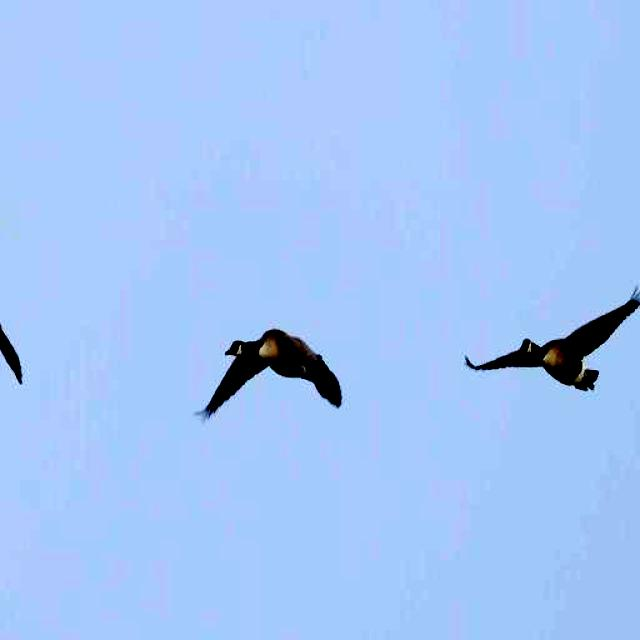airplane: (464, 281, 640, 396), (192, 324, 342, 429)
